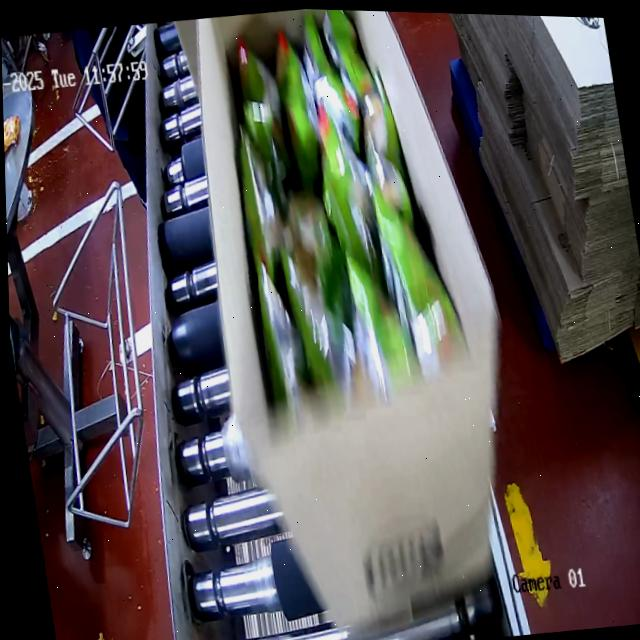YOGURT_HERB: (207, 6, 445, 417)
